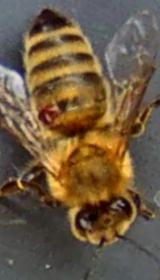varroa_mite: (31, 95, 62, 129)
